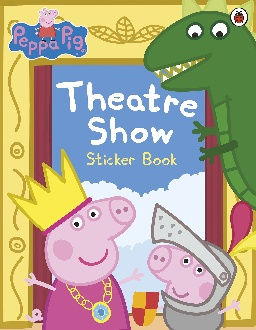Peppa: (7, 149, 136, 330)
